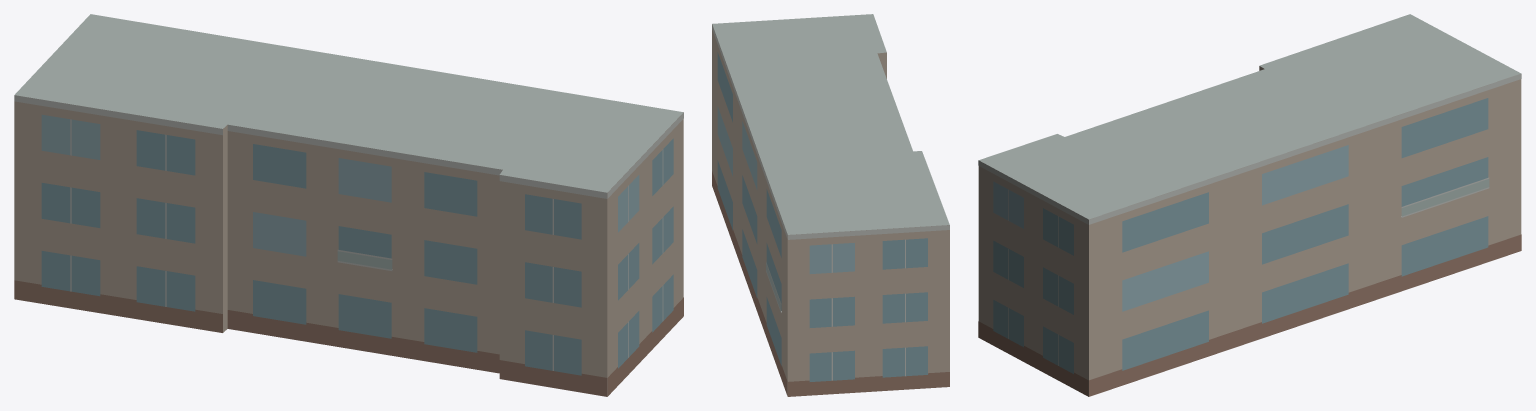
File: survey-upis-32533556.glb
The picture shows the model from 3 angles, left to right: view 1: azimuth 30°, elevation 25°; view 2: azimuth 150°, elevation 25°; view 3: azimuth 270°, elevation 25°; orthographic projection. The views are drawn at different scales.
Parts seen in each view (by area): view 1: survey-upis-32533556.tmp; view 2: survey-upis-32533556.tmp; view 3: survey-upis-32533556.tmp.
Boxes of the visible parts, left/top/right/bottom form: survey-upis-32533556.tmp: left=14, top=14, right=683, bottom=396; survey-upis-32533556.tmp: left=712, top=14, right=949, bottom=396; survey-upis-32533556.tmp: left=978, top=14, right=1521, bottom=396.
Bounding box in the file's own units: 19.63 × 7.9 × 21.92.
